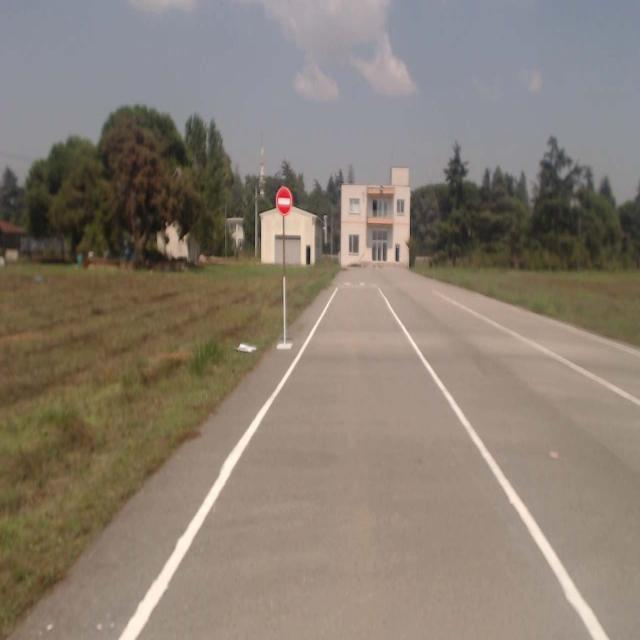girisyok: (275, 187, 293, 215)
